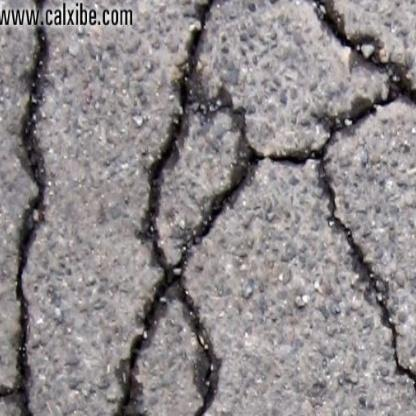Cracks: (99, 0, 416, 416), (0, 0, 55, 416)
